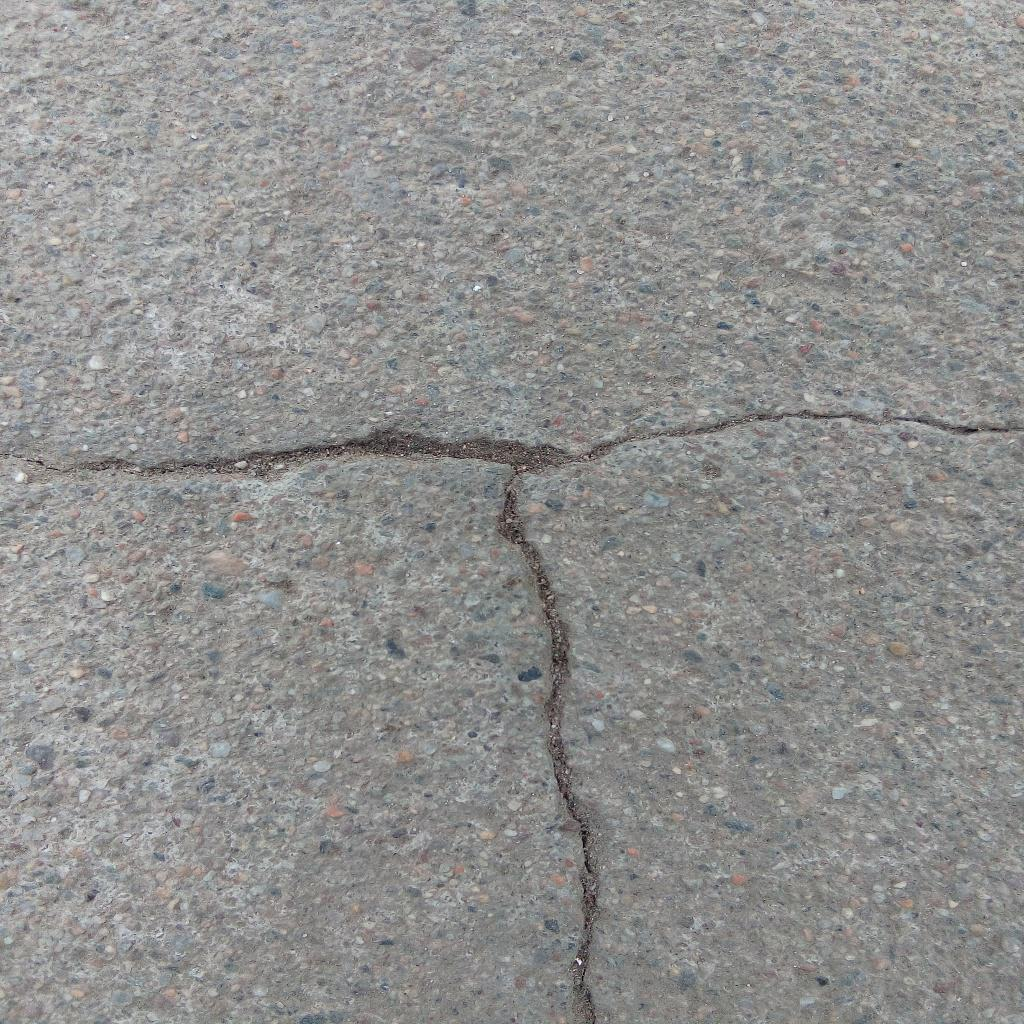Crack: (1, 411, 1024, 473), (495, 474, 603, 1024)
